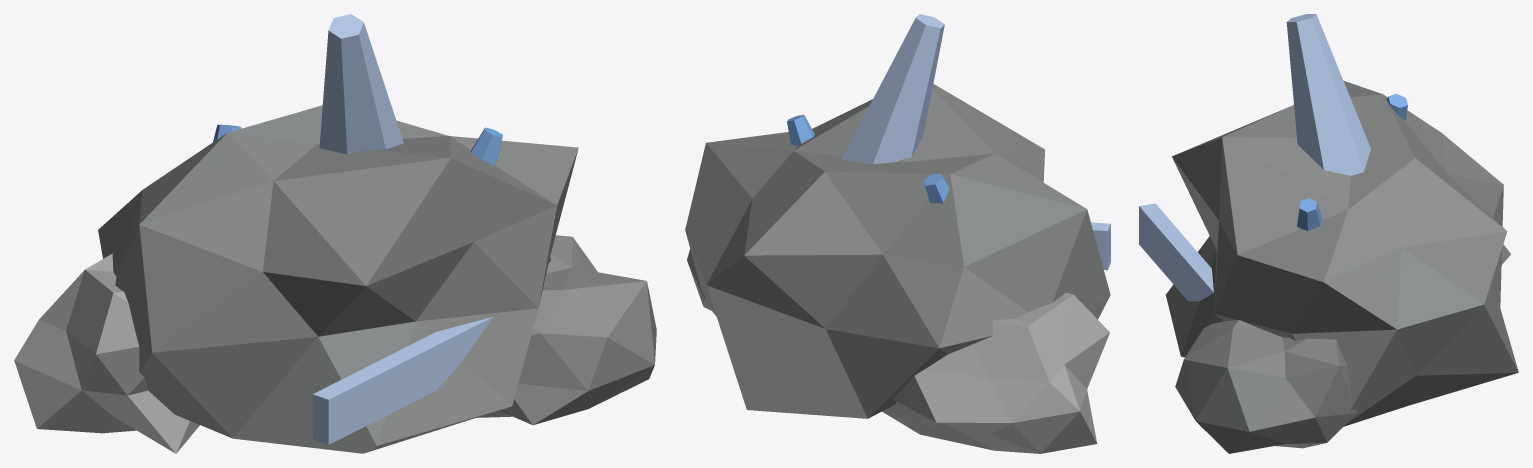
The model's file is t4_ore_full.glb.
The picture shows the model from 3 angles, left to right: view 1: azimuth 30°, elevation 25°; view 2: azimuth 150°, elevation 25°; view 3: azimuth 270°, elevation 25°; orthographic projection. The views are drawn at different scales.
Visible parts, largest first — view 1: OreHostCenter, OreHostLeft, OreHostRight, FrontOreVein, CenterOreShard, RightOreShard; view 2: OreHostCenter, OreHostLeft, CenterOreShard, FrontOreVein, RightOreShard, LeftOreShard; view 3: OreHostCenter, OreHostRight, CenterOreShard, FrontOreVein, RightOreShard.
Part boxes in pixels (x1,y1,x2,y2): OreHostCenter: (98,105,578,453); OreHostLeft: (14,253,199,453); OreHostRight: (476,235,656,424); FrontOreVein: (312,317,492,444); CenterOreShard: (319,14,403,154); RightOreShard: (471,127,502,165); OreHostCenter: (685,84,1110,418); OreHostLeft: (882,292,1109,453); CenterOreShard: (841,14,944,164); FrontOreVein: (1091,222,1110,270); RightOreShard: (787,114,814,145); LeftOreShard: (923,173,949,203); OreHostCenter: (1166,81,1518,426); OreHostRight: (1175,320,1356,453); CenterOreShard: (1286,14,1370,175); FrontOreVein: (1139,203,1213,301); RightOreShard: (1297,198,1321,230).
Bounding box in the file's own units: 1.48 × 1.1 × 1.08.
